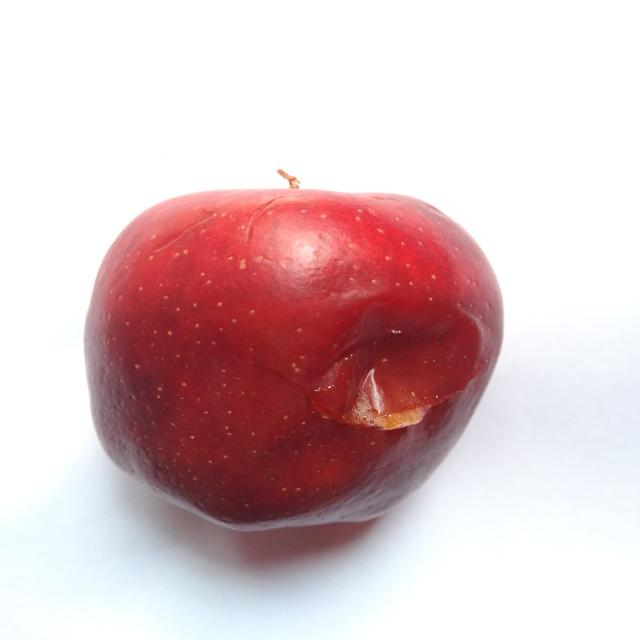apple: (86, 190, 502, 529)
